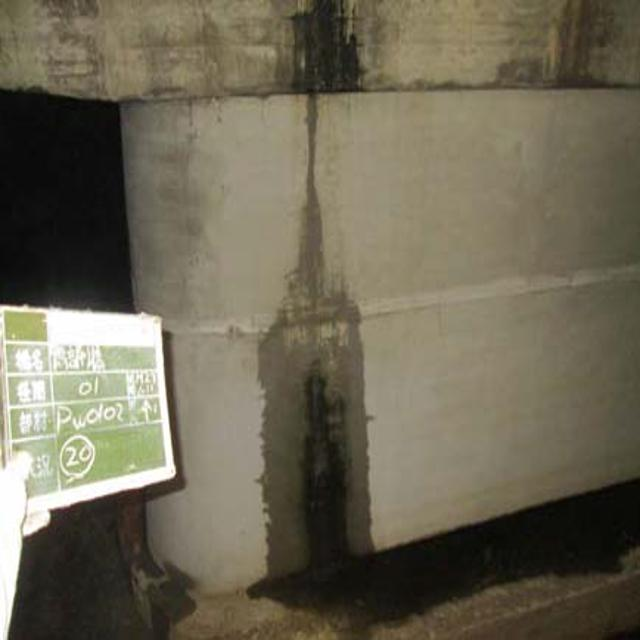freelime: (243, 94, 416, 640)
